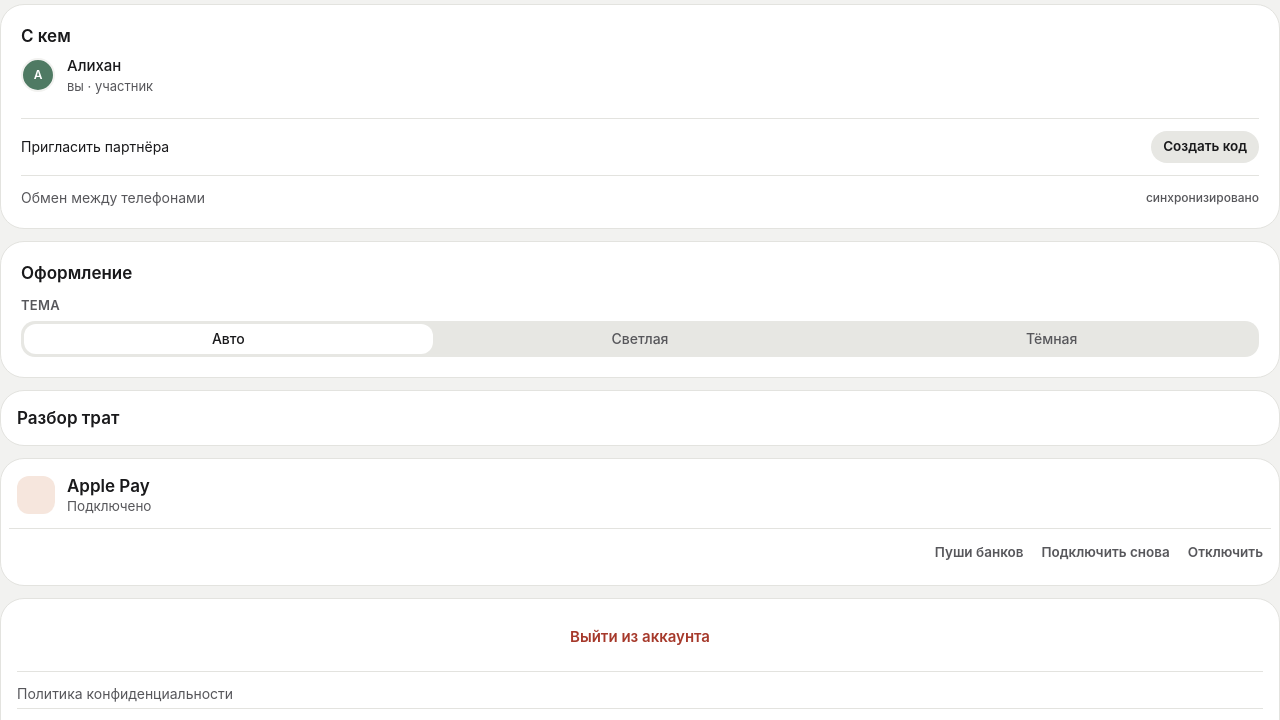
лист подключения — вторая команда «Пуши банков» › карточка подключённого iPhone — тихая «Пуши банков» открывает лист сразу на шагах пушей
The image size is (1280, 720).
Click the button "Пуши банков": click(979, 553) top-left (927, 537), bottom-right (1032, 569)
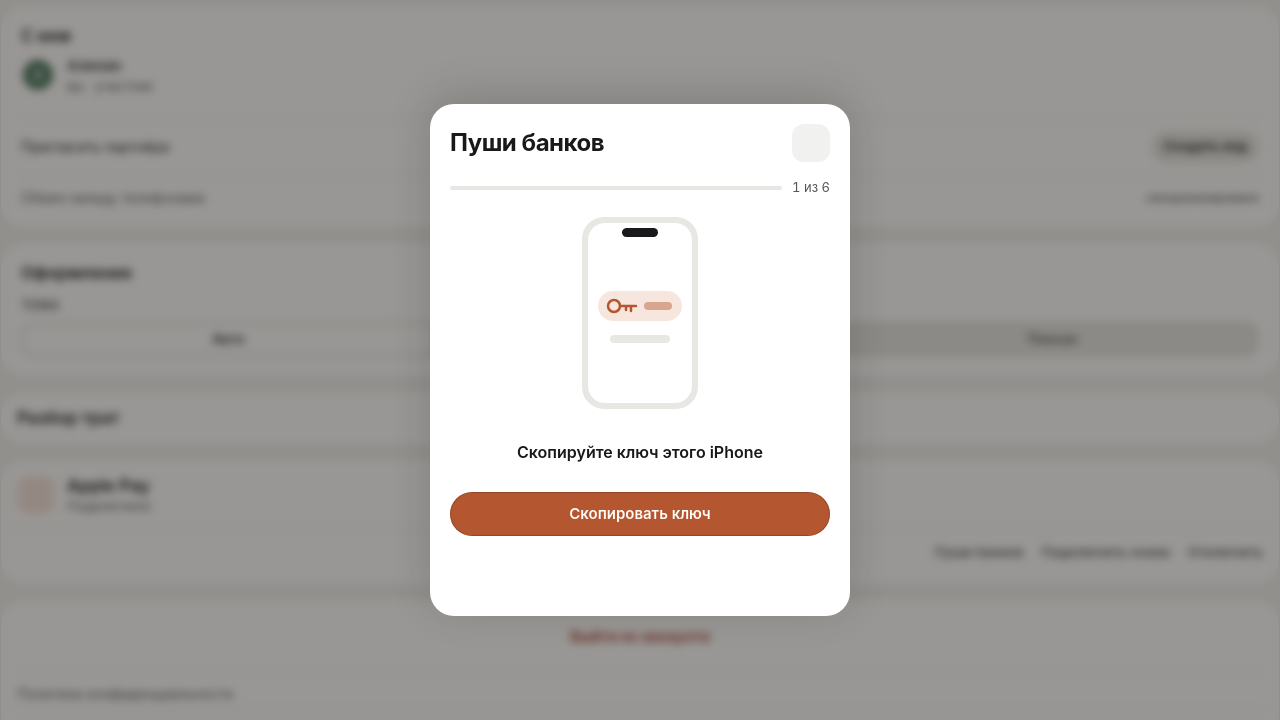
Result: the text "1 из 6" is shown at top-left (792, 178), bottom-right (830, 197)
Click the button "Скопировать ключ": click(640, 514) top-left (450, 492), bottom-right (830, 536)
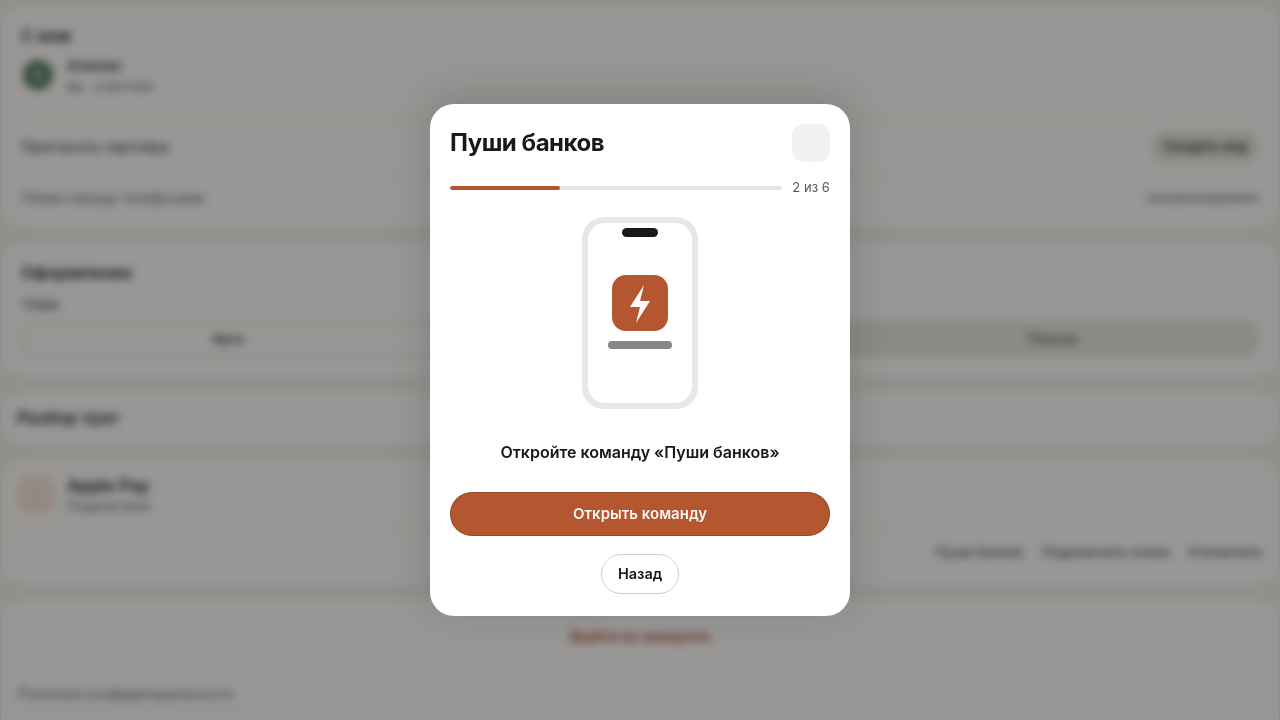
Result: the text "Откройте команду «Пуши банков»" is shown at top-left (500, 442), bottom-right (780, 462)
